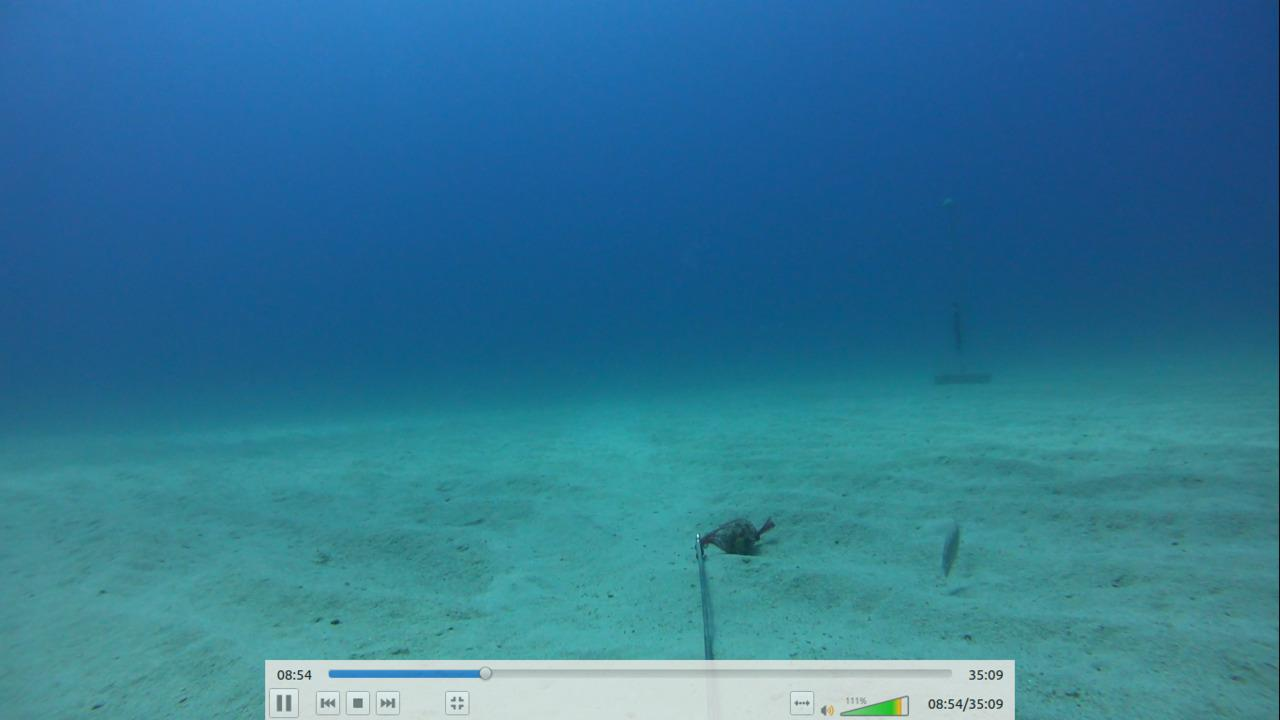raor: (929, 502, 965, 584)
